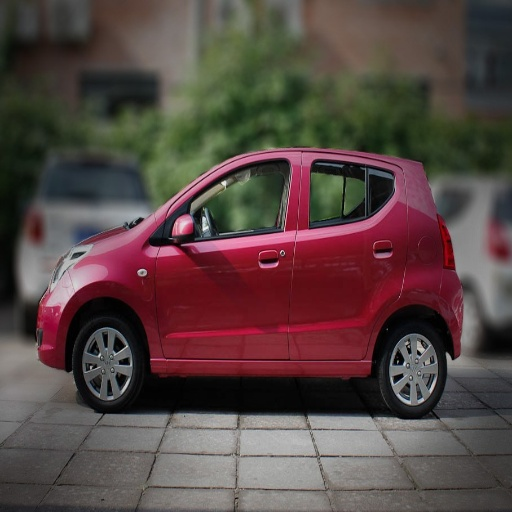back_left_door: (291, 153, 402, 363)
front_left_door: (156, 155, 299, 370)
